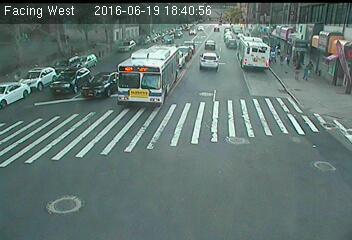neg: (226, 183, 260, 229), (82, 95, 110, 132), (183, 102, 206, 133), (11, 104, 33, 133), (198, 34, 219, 62), (62, 53, 83, 80), (289, 83, 309, 110), (163, 177, 183, 204), (49, 188, 69, 215), (237, 129, 256, 154), (250, 41, 269, 66), (298, 132, 317, 156), (135, 73, 153, 97), (93, 154, 109, 176)
